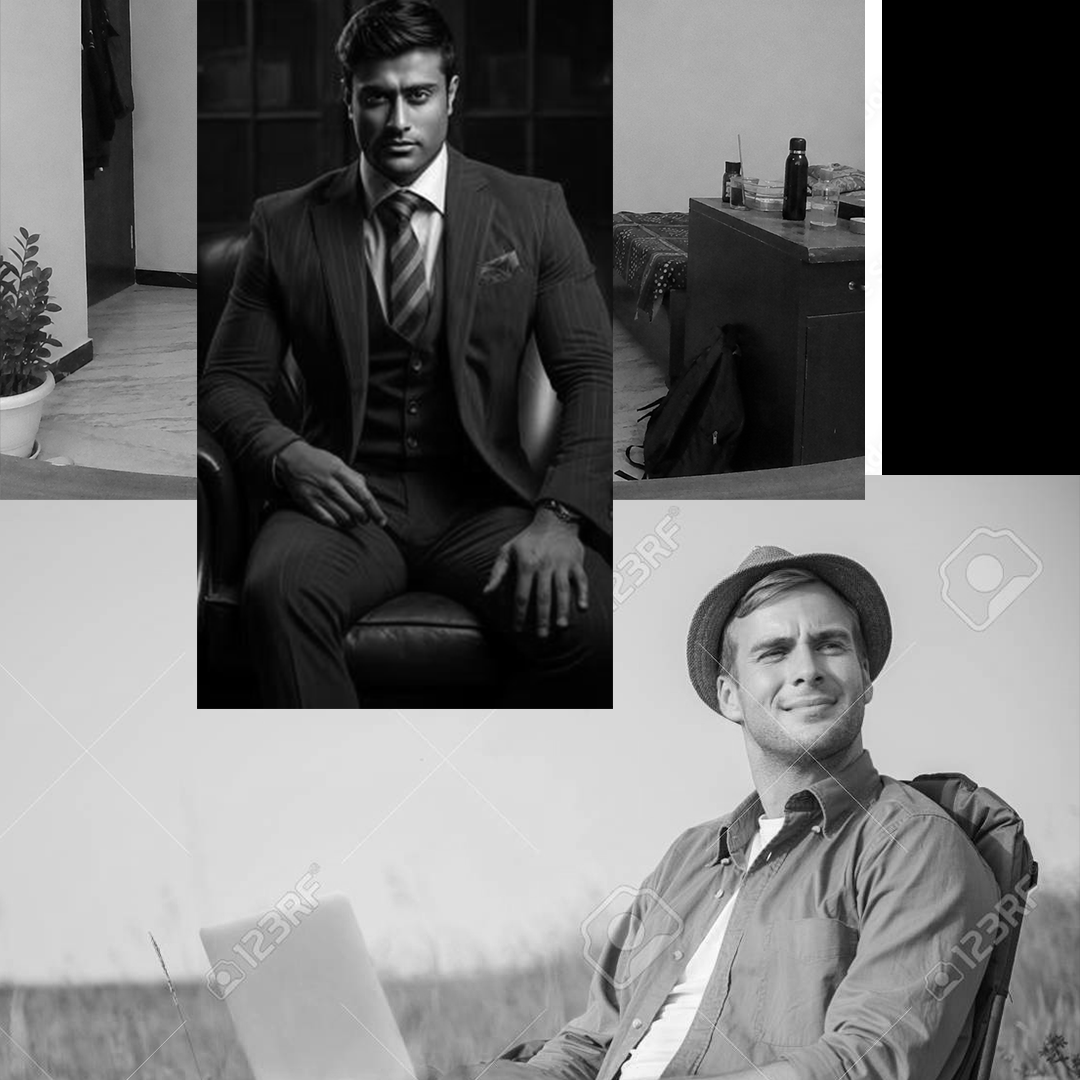Focused: (335, 25, 550, 321)
distracted: (691, 535, 920, 908)
